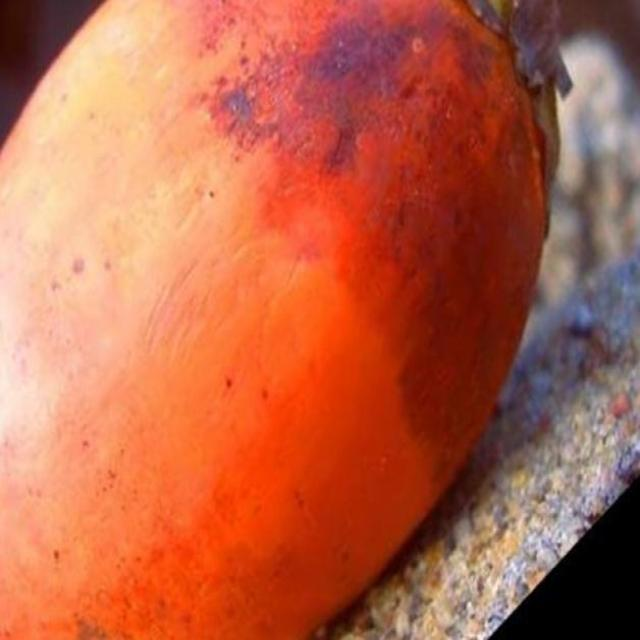good: (0, 0, 573, 639)
